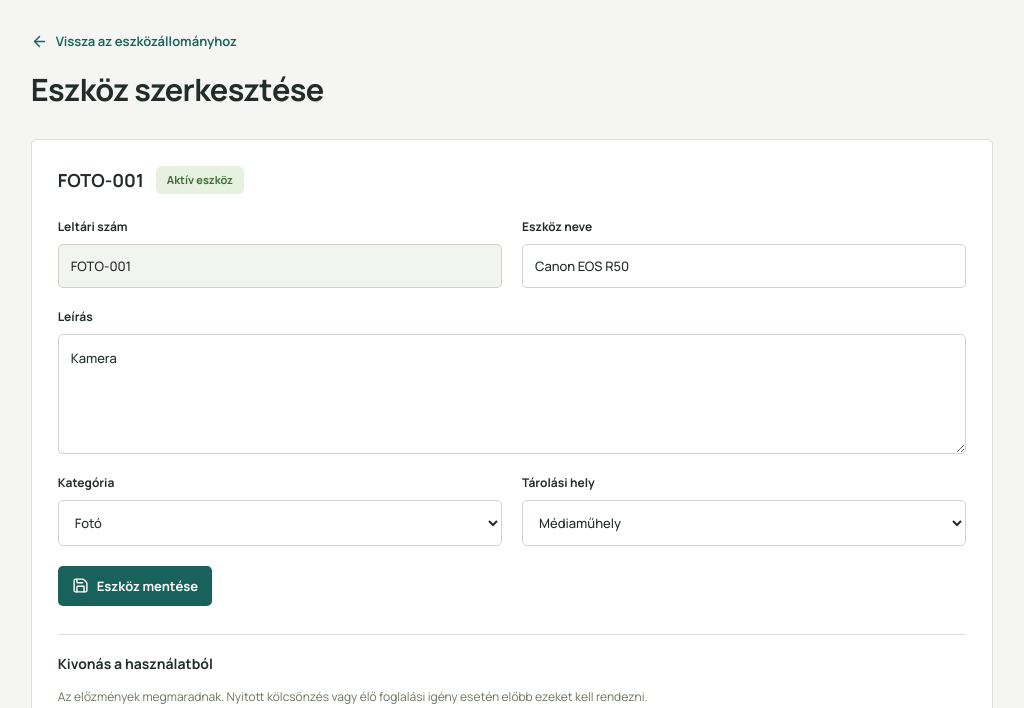
Test case: eszköznyilvántartás › verzióütközésnél megőrzi a szerkesztést, és csak kérésre tölti be a friss adatokat
This screenshot has width=1024, height=708.
Replace the text in the field labelled "Eszköz neve" with "Saját piszkozat" at {"x": 744, "y": 266}, box x1=522 y1=244 x2=966 y2=288
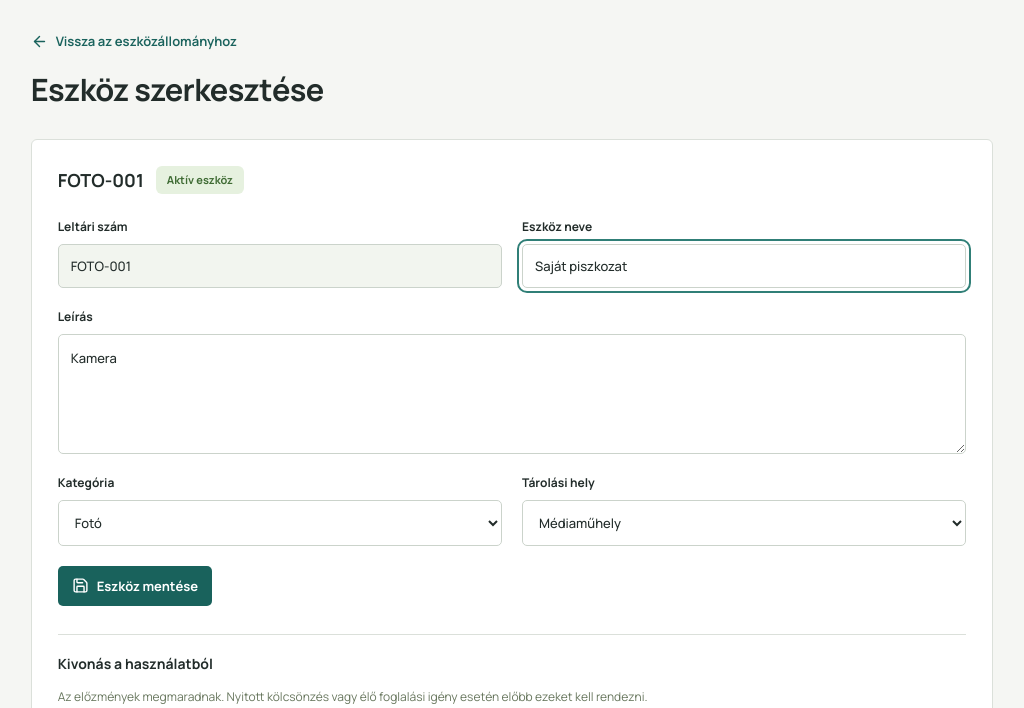
Click the button "Eszköz mentése".
click(135, 586)  # box x1=58 y1=566 x2=212 y2=606
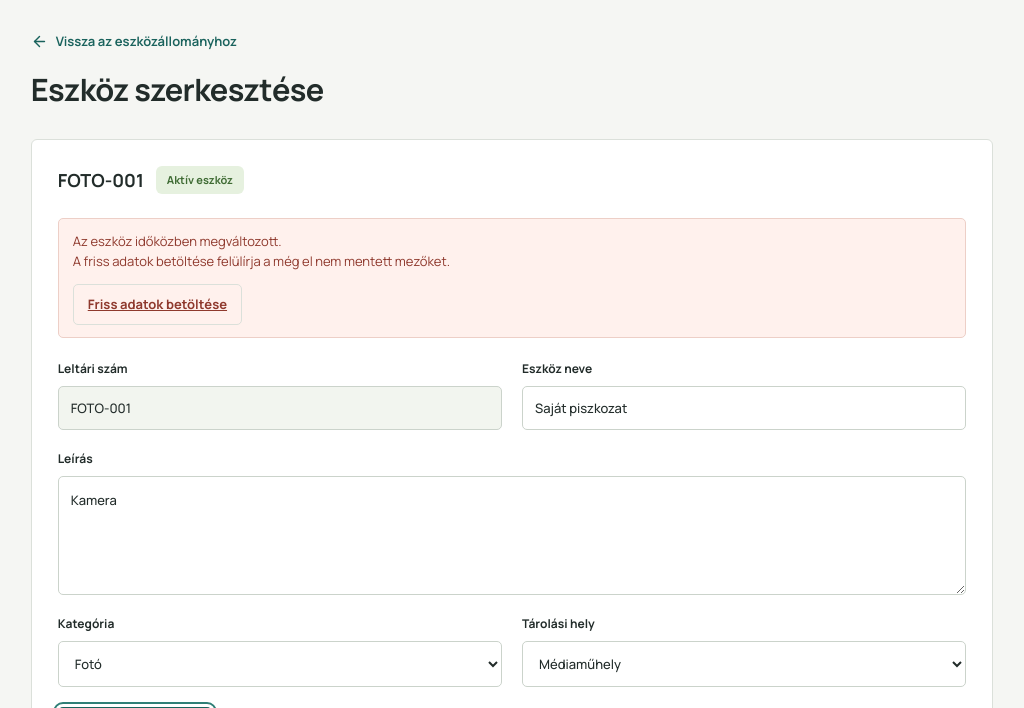
Expected: the message shows "időközben megváltozott", x1=73 y1=232 x2=282 y2=250
Click the button "Friss adatok betöltése".
click(157, 304)  # box x1=73 y1=284 x2=242 y2=324
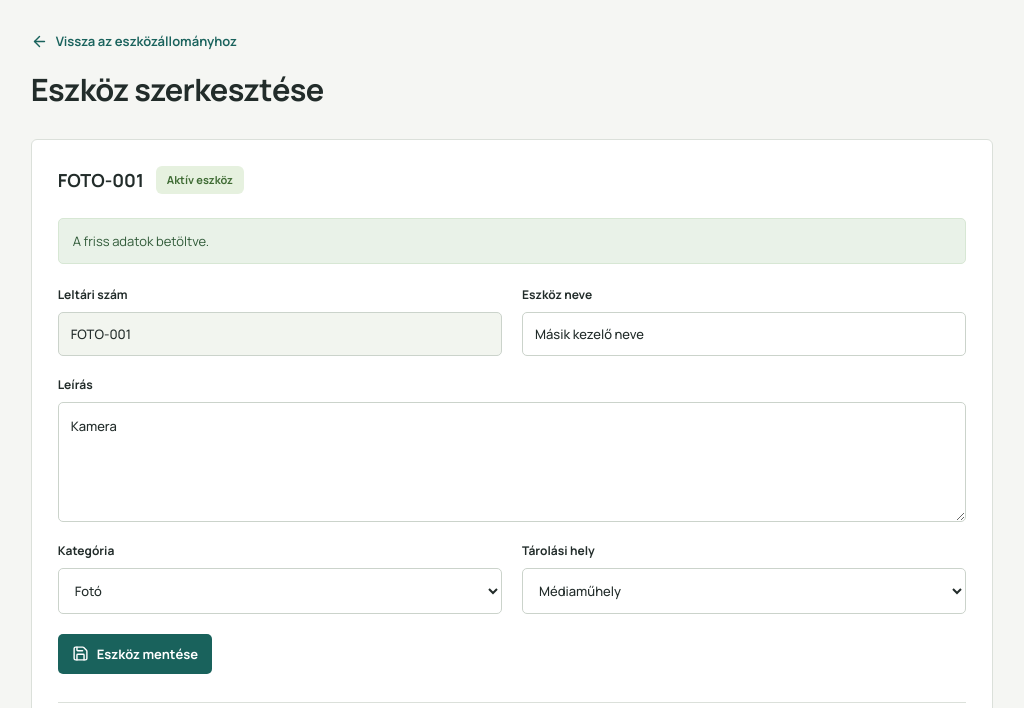
Expected: the field labelled "Eszköz neve" holds "Másik kezelő neve", x1=522 y1=312 x2=966 y2=356
